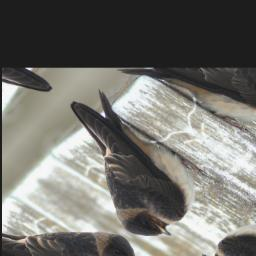Swallow: (14, 82, 235, 251)
